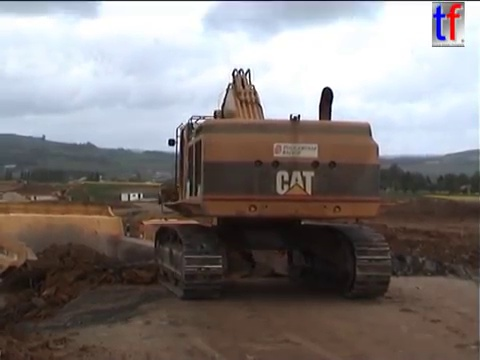excavator: (149, 64, 395, 300), (51, 179, 92, 204)
truck: (1, 201, 192, 327), (125, 214, 232, 281)
